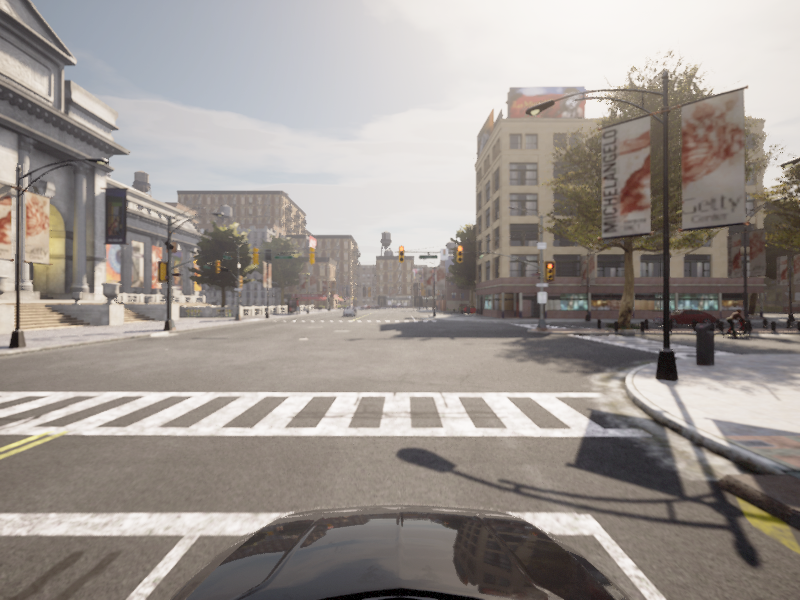vehicle: (649, 309, 719, 326), (717, 309, 755, 338)
